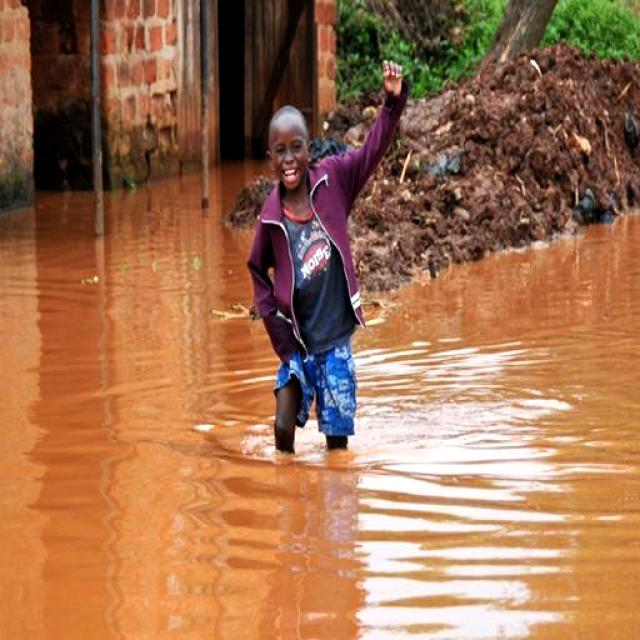civilian: (213, 38, 419, 500)
